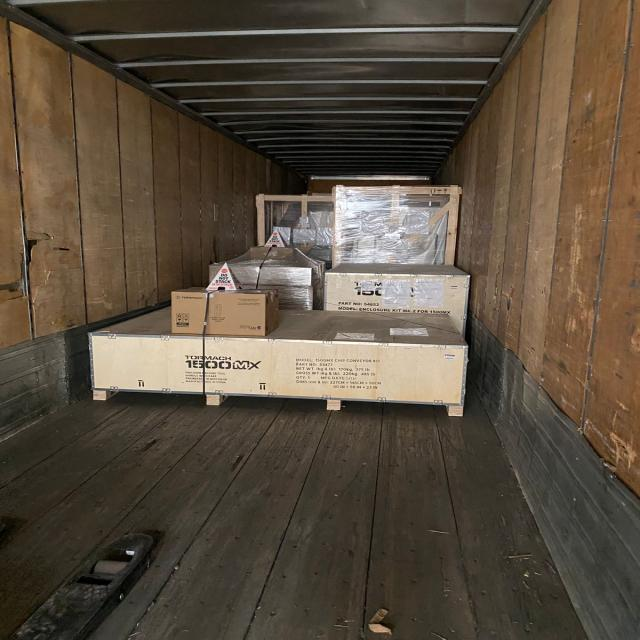15lx: (333, 185, 461, 267)
encl1500: (324, 263, 470, 333)
flood: (90, 311, 467, 409)
